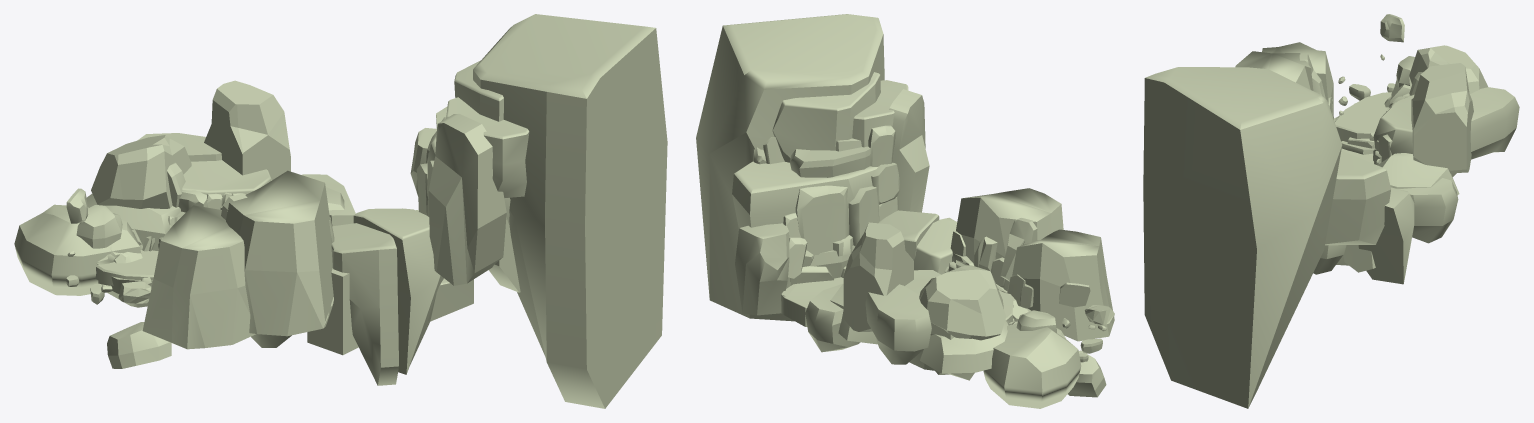
Rendered from Part1Enviroment1.2.fbx.
The picture shows the model from 3 angles, left to right: view 1: azimuth 30°, elevation 25°; view 2: azimuth 150°, elevation 25°; view 3: azimuth 270°, elevation 25°; orthographic projection. The views are drawn at different scales.
Visible parts, largest first — view 1: R5B4, HardRock_42 (×2), R3B15, R5B2, HardRock_01, R5B3, R1A3, HardRock_03, R6A2, R5B6, R2B4, Cube_2 (+10 smaller); view 2: R5B4, HardRock_42 (×2), R1A3, R2B11, HardRock_03, R5B6, HardRock_01, R5B7, R2B7, R3B15, R4A1, R1A4 (+21 smaller); view 3: R5B4, HardRock_01, R2B11, R5B7, R2B7, HardRock_42 (×2), R2B9, R1A7, HardRock_03, R2B4, pasted__pCube380, R4B29 (+4 smaller).
Boxes of the visible parts, left/top/right/bottom form: R5B4: left=473, top=14, right=667, bottom=408; HardRock_42 (×2): left=142, top=170, right=333, bottom=349; R3B15: left=428, top=114, right=506, bottom=285; R5B2: left=331, top=223, right=398, bottom=385; HardRock_01: left=204, top=80, right=290, bottom=179; R5B3: left=353, top=208, right=443, bottom=374; R1A3: left=14, top=204, right=141, bottom=295; HardRock_03: left=91, top=135, right=191, bottom=208; R6A2: left=446, top=97, right=529, bottom=197; R5B6: left=454, top=60, right=520, bottom=292; R2B4: left=182, top=160, right=272, bottom=195; Cube_2: left=307, top=268, right=358, bottom=355; R5B4: left=696, top=14, right=884, bottom=321; HardRock_42 (×2): left=956, top=188, right=1114, bottom=341; R1A3: left=983, top=323, right=1081, bottom=408; R2B11: left=732, top=161, right=878, bottom=228; HardRock_03: left=919, top=265, right=1005, bottom=340; R5B6: left=772, top=72, right=880, bottom=162; HardRock_01: left=843, top=222, right=913, bottom=331; R5B7: left=735, top=223, right=790, bottom=315; R2B7: left=865, top=284, right=931, bottom=364; R3B15: left=889, top=89, right=929, bottom=212; R4A1: left=795, top=185, right=849, bottom=254; R1A4: left=920, top=319, right=1008, bottom=373; R5B4: left=1143, top=67, right=1342, bottom=408; HardRock_01: left=1411, top=63, right=1473, bottom=173; R2B11: left=1325, top=151, right=1390, bottom=245; R5B7: left=1358, top=187, right=1414, bottom=284; R2B7: left=1470, top=87, right=1519, bottom=159; HardRock_42 (×2): left=1235, top=42, right=1333, bottom=112; R2B9: left=1398, top=178, right=1458, bottom=243; R1A7: left=1377, top=153, right=1459, bottom=194; HardRock_03: left=1409, top=45, right=1487, bottom=93; R2B4: left=1373, top=94, right=1456, bottom=177; pasted__pCube380: left=1334, top=107, right=1388, bottom=142; R4B29: left=1343, top=245, right=1375, bottom=272.
Bounding box in the file's own units: 21709 × 13147 × 15087.
